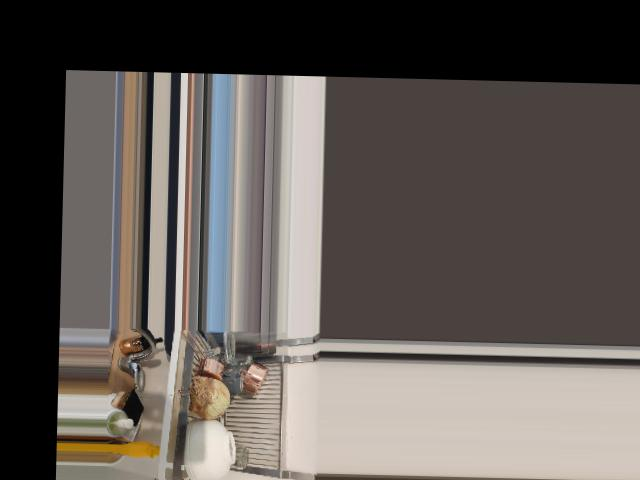onion: (184, 378, 233, 419)
